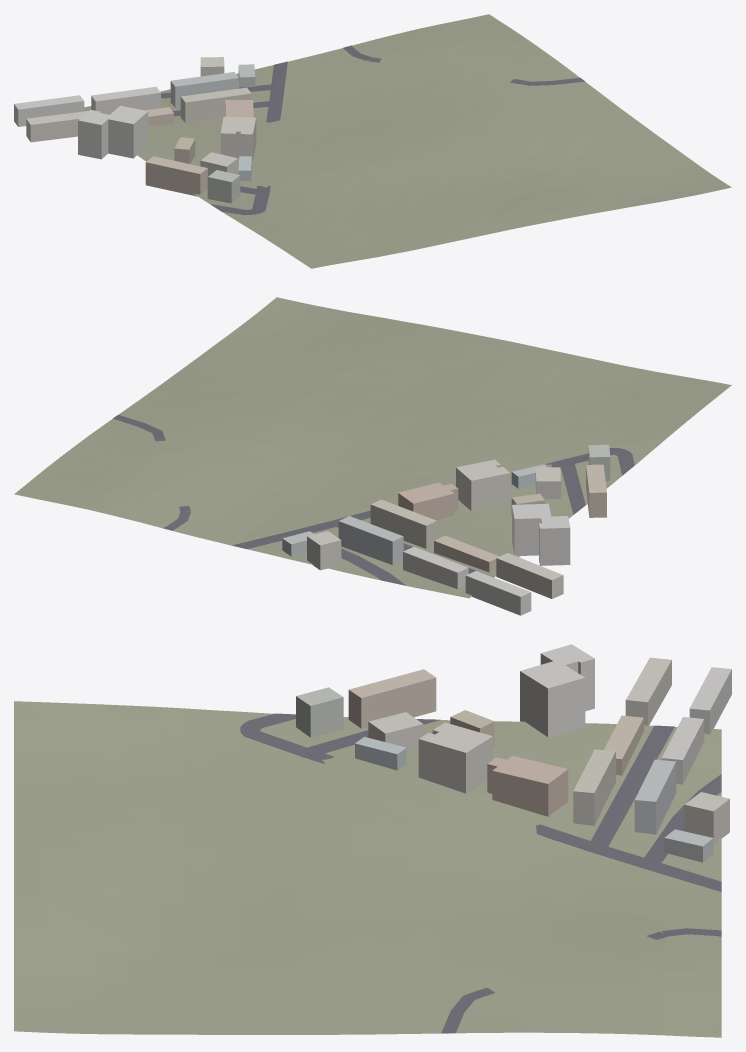
File: chunk_0_1.glb
The picture shows the model from 3 angles, top to bottom: view 1: azimuth 30°, elevation 25°; view 2: azimuth 150°, elevation 25°; view 3: azimuth 270°, elevation 25°; orthographic projection. The views are drawn at different scales.
Parts seen in each view (by area): view 1: geometry_16, geometry_0, geometry_15, geometry_6, geometry_17, geometry_8, geometry_4, geometry_5, geometry_3, geometry_2, geometry_14, geometry_13 (+4 smaller); view 2: geometry_16, geometry_0, geometry_8, geometry_3, geometry_6, geometry_5, geometry_2, geometry_9, geometry_4, geometry_17, geometry_7, geometry_11 (+5 smaller); view 3: geometry_16, geometry_0, geometry_8, geometry_9, geometry_17, geometry_15, geometry_19, geometry_6, geometry_3, geometry_5, geometry_14, geometry_11 (+10 smaller).
Boxes of the visible parts, x1,y1,x2,y2 form: geometry_16: [84, 14, 731, 268]; geometry_0: [78, 105, 148, 159]; geometry_15: [145, 156, 207, 196]; geometry_6: [180, 87, 251, 122]; geometry_17: [210, 61, 287, 214]; geometry_8: [220, 116, 256, 160]; geometry_4: [91, 86, 160, 114]; geometry_5: [26, 111, 88, 142]; geometry_3: [170, 72, 238, 107]; geometry_2: [14, 95, 84, 126]; geometry_14: [207, 170, 240, 203]; geometry_13: [200, 152, 237, 176]; geometry_16: [14, 297, 731, 598]; geometry_0: [512, 503, 570, 565]; geometry_8: [456, 459, 510, 511]; geometry_3: [338, 516, 403, 564]; geometry_6: [370, 499, 437, 548]; geometry_5: [496, 553, 563, 598]; geometry_2: [465, 570, 531, 615]; geometry_9: [398, 482, 458, 520]; geometry_4: [403, 546, 468, 589]; geometry_17: [232, 448, 634, 548]; geometry_7: [434, 535, 499, 572]; geometry_11: [307, 531, 341, 570]; geometry_16: [14, 701, 721, 1037]; geometry_0: [520, 644, 594, 737]; geometry_8: [418, 722, 492, 793]; geometry_9: [487, 755, 568, 816]; geometry_17: [240, 713, 721, 891]; geometry_15: [348, 669, 436, 728]; geometry_19: [591, 725, 674, 846]; geometry_6: [573, 749, 615, 825]; geometry_3: [634, 759, 676, 834]; geometry_5: [625, 657, 671, 725]; geometry_14: [296, 687, 343, 737]; geometry_11: [684, 792, 729, 843].
Size of the model in its own units: 287 by 25.14 by 254.
